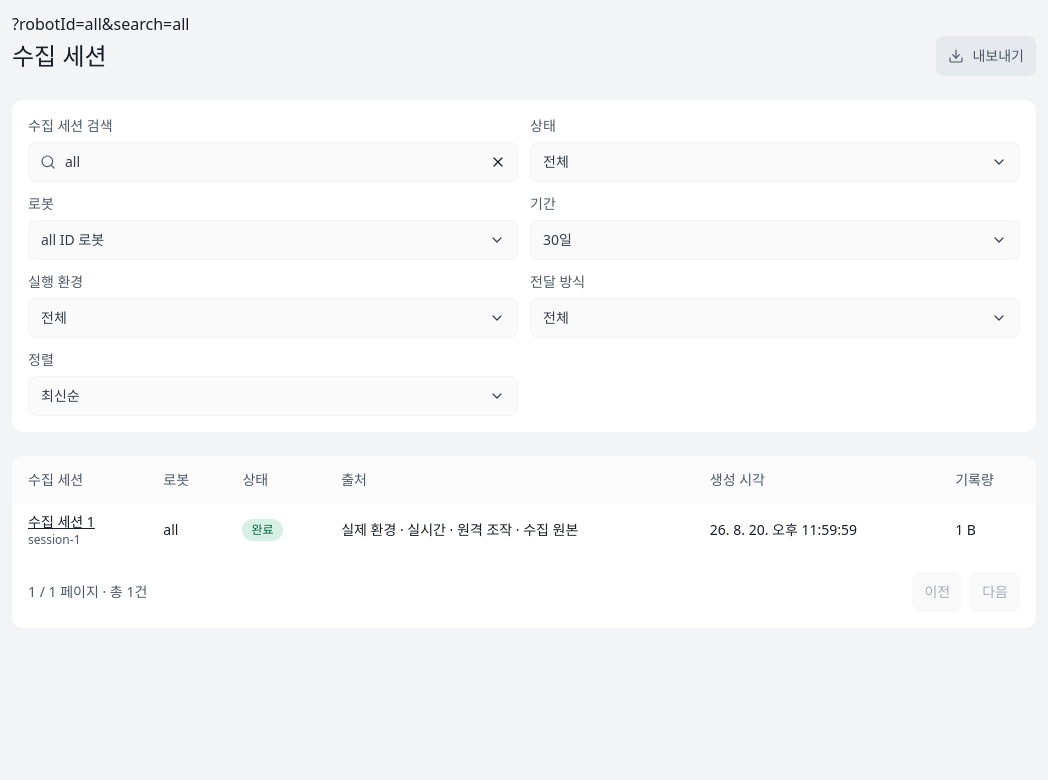
Test case: SessionsPage › 실제 all 로봇 ID를 전체와 구분해 URL·조회·내보내기에 보존한다
This screenshot has width=1048, height=780.
Expected: the link "수집 세션 1" is shown, [28, 512, 95, 531]
Expected: the dropdown labelled "로봇" reads "all ID 로봇", [28, 220, 518, 260]
Click the button with aria-label "수집 세션 내보내기" at (986, 56), box [936, 36, 1036, 76]
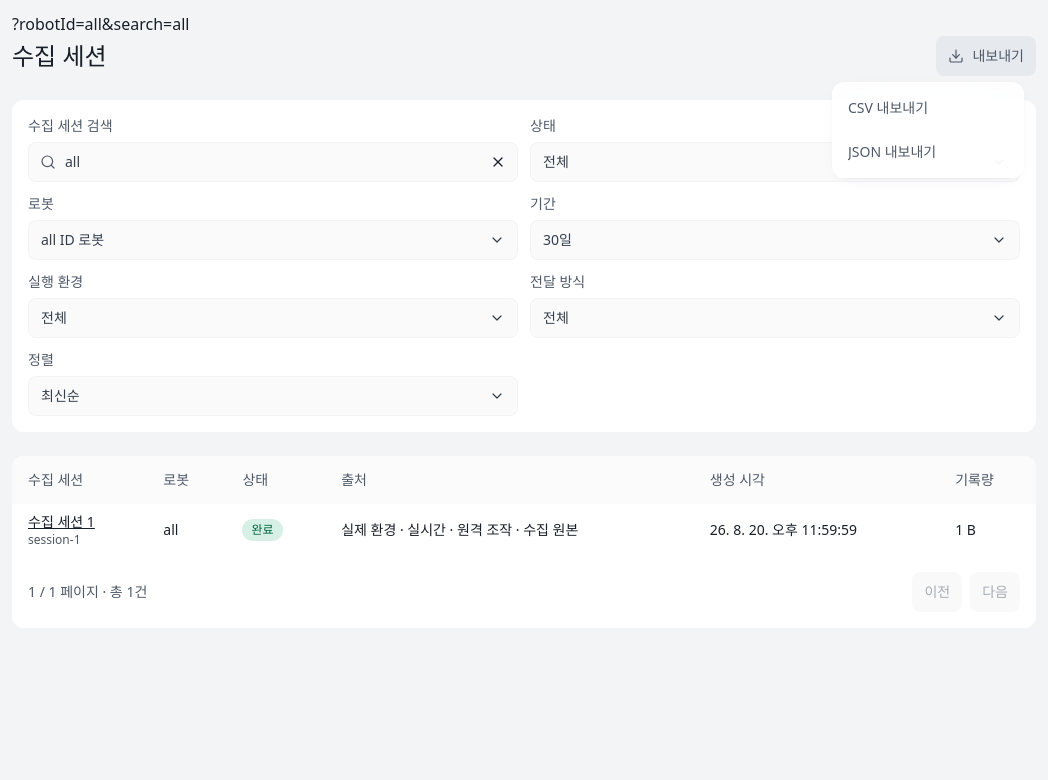
Click the menu item "CSV 내보내기" at (888, 108), box [848, 98, 928, 117]
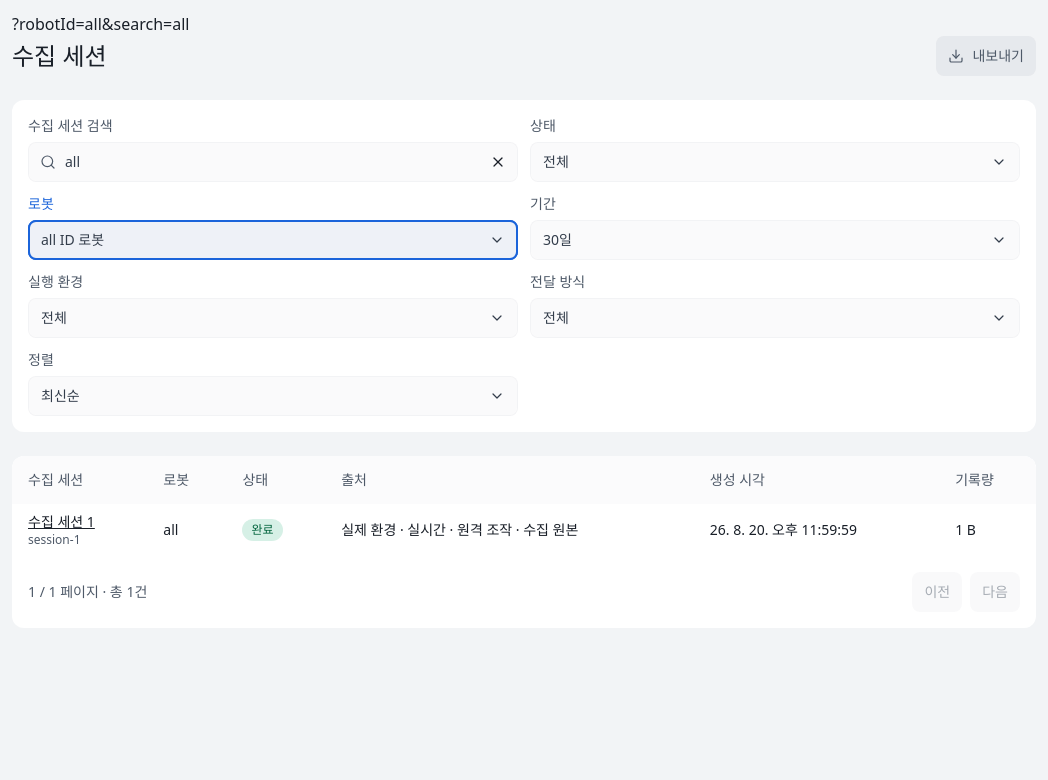
Press Enter
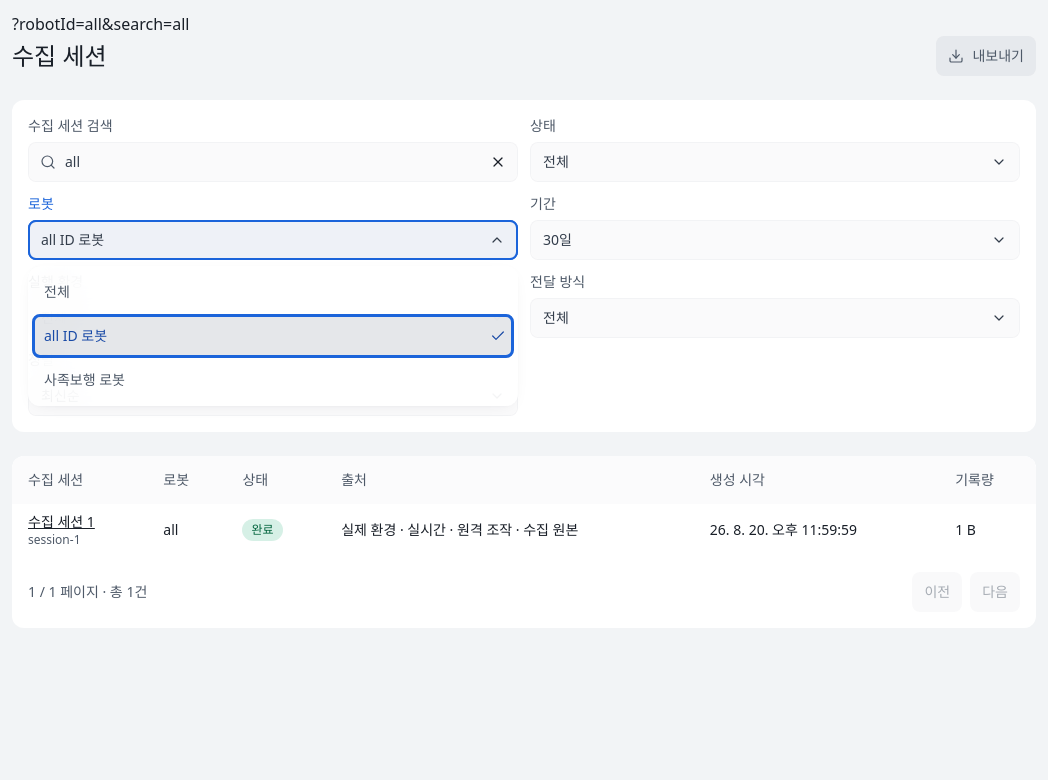
Expected: the option "전체" is shown, [44, 282, 70, 301]
Press Home Enter
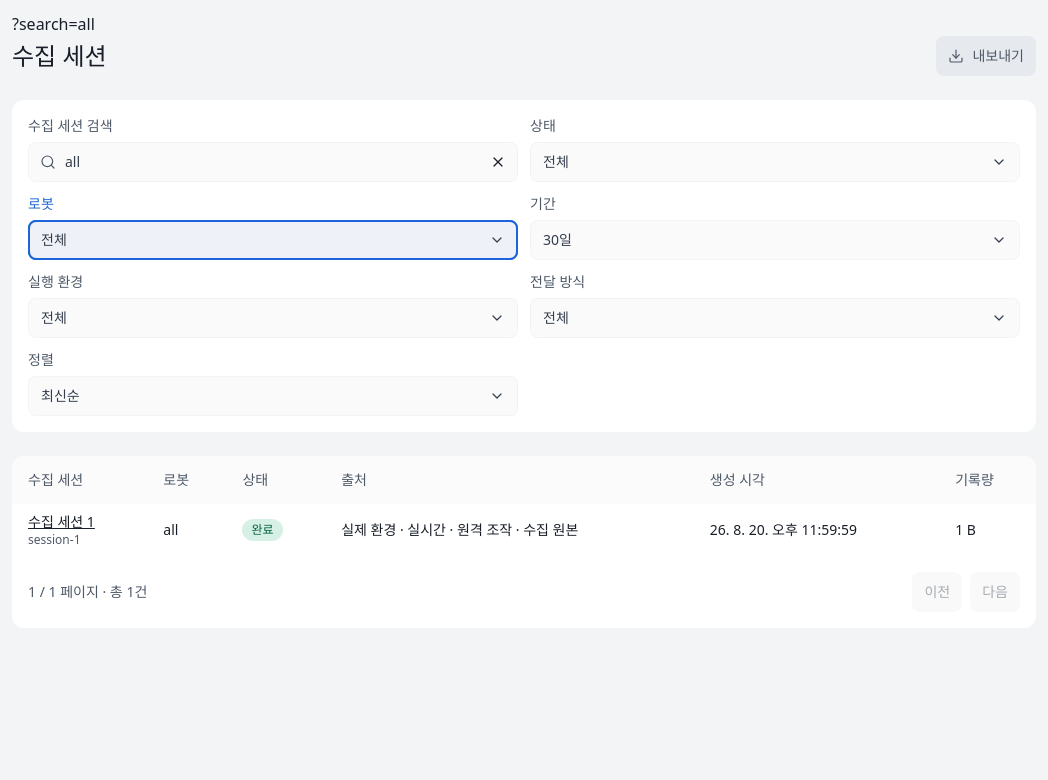
Expected: the text with test id "location-search" shows "search=all", [12, 13, 95, 35]
Expected: the text with test id "location-search" no longer shows "robotId=", [12, 13, 95, 35]
